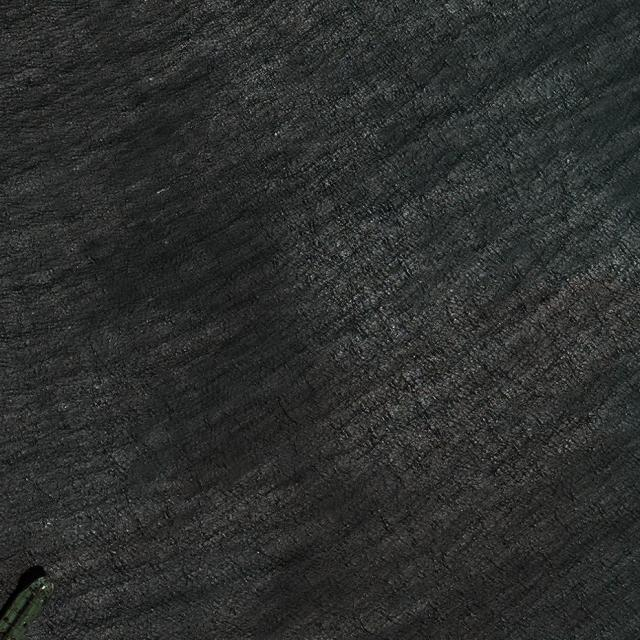Oil Tanker: (2, 568, 50, 640)
